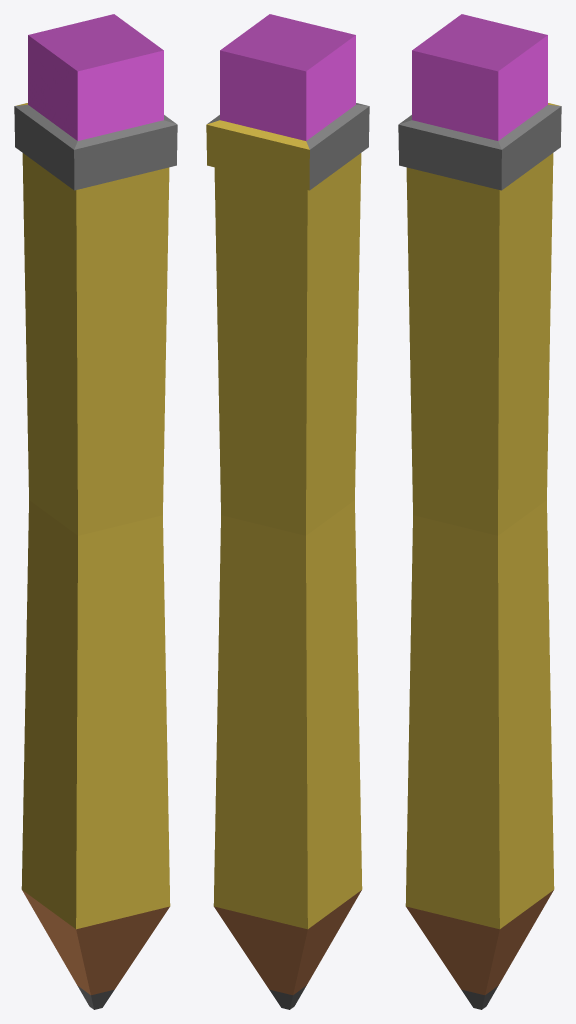
The model's file is Pencil.fbx.
3 views of the same model, side by side, from view 1: azimuth 30°, elevation 25°; view 2: azimuth 150°, elevation 25°; view 3: azimuth 330°, elevation 25° (orthographic).
Parts seen in each view (by area): view 1: Pencil; view 2: Pencil; view 3: Pencil.
Boxes of the visible parts, left/top/right/bottom form: Pencil: left=14, top=14, right=177, bottom=1009; Pencil: left=206, top=14, right=369, bottom=1009; Pencil: left=398, top=14, right=561, bottom=1009.
Bounding box in the file's own units: 0.033 × 0.2936 × 0.033.
